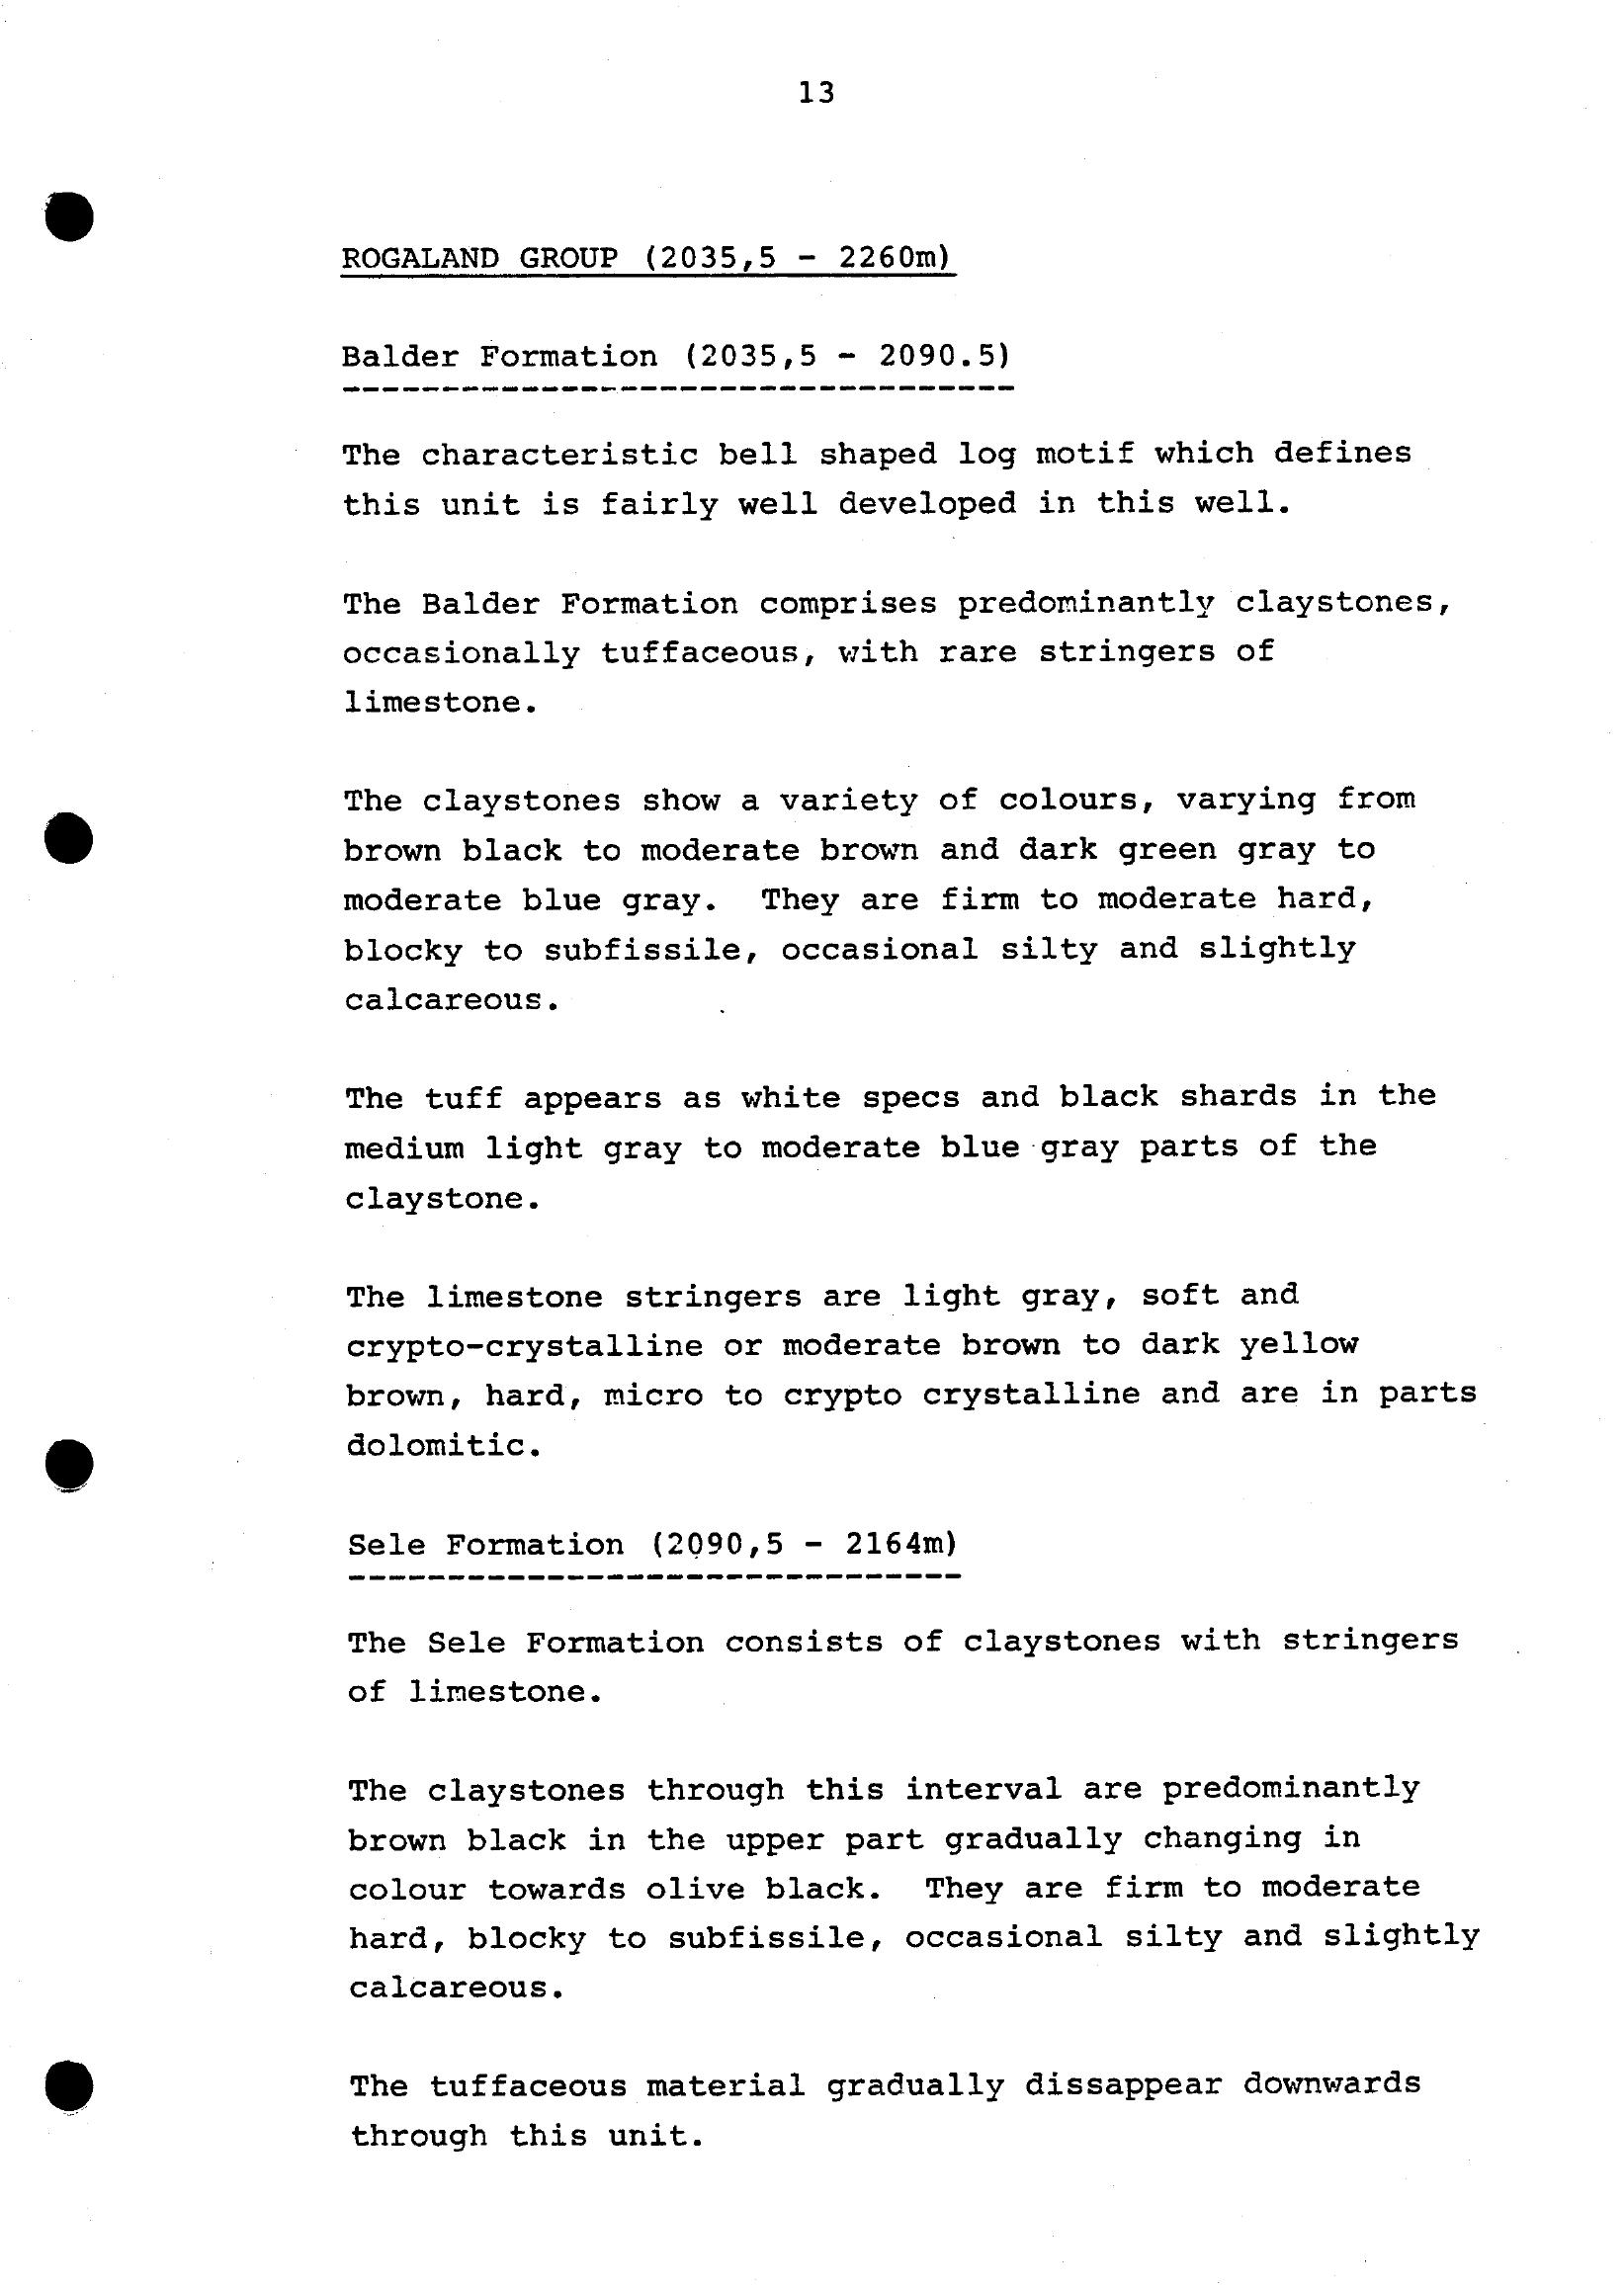text: (301, 190, 1517, 2198)
